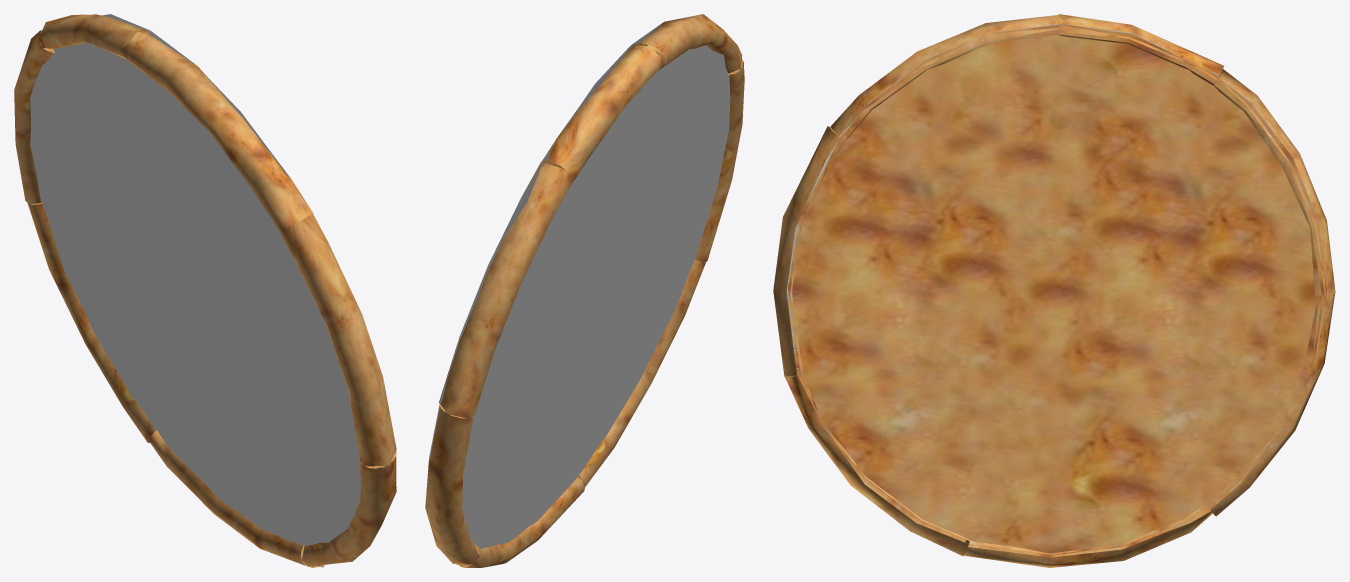
Rendered from Pizza.dae.
3 renders of one model, left to right at view 1: azimuth 30°, elevation 25°; view 2: azimuth 150°, elevation 25°; view 3: azimuth 270°, elevation 25°, orthographic. The views are drawn at different scales.
Visible parts, largest first — view 1: prim9; view 2: prim9; view 3: prim9.
Boxes of the visible parts, box(x1,y1,x2,y2) form: prim9: box(14, 14, 396, 567); prim9: box(425, 14, 744, 567); prim9: box(773, 14, 1335, 567).
Bounding box in the file's own units: 0.2093 × 0.6832 × 0.6644.
2 materials, 1 textured.
